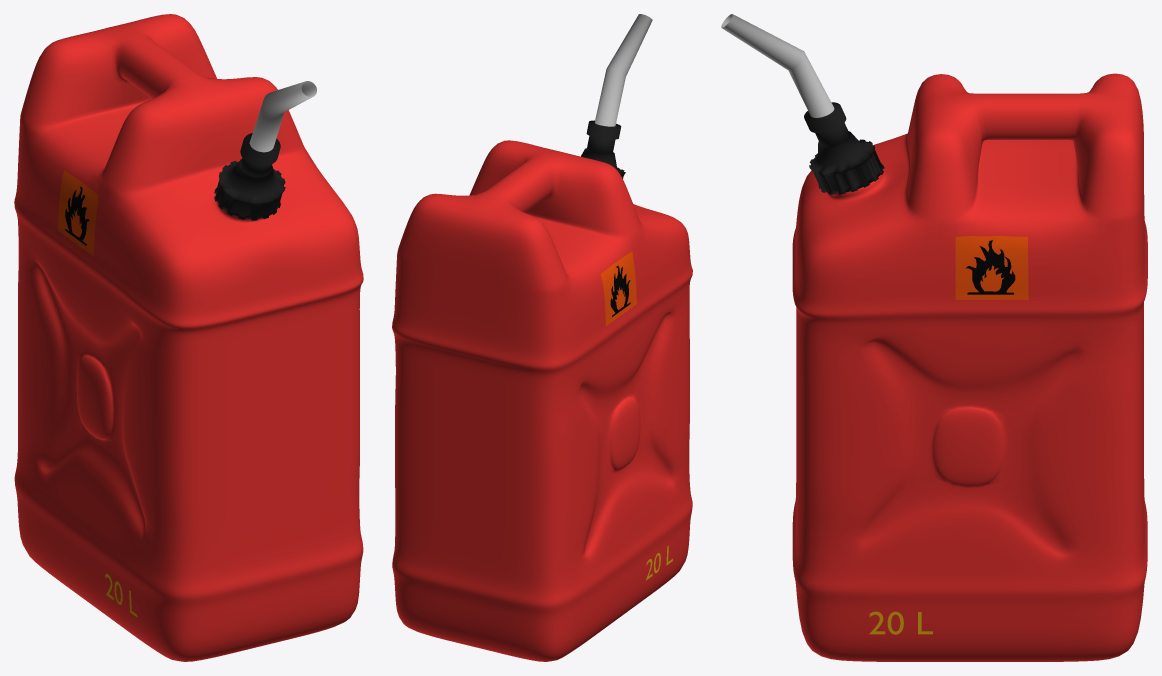
Rendered from Combustivel.fbx.
3 renders of one model, left to right at view 1: azimuth 30°, elevation 25°; view 2: azimuth 150°, elevation 25°; view 3: azimuth 270°, elevation 25°, orthographic. The views are drawn at different scales.
Parts seen in each view (by area): view 1: Cubo; view 2: Cubo; view 3: Cubo.
Part boxes in pixels (<box>): Cubo: <box>14,14,363,661</box>; Cubo: <box>392,14,692,661</box>; Cubo: <box>721,14,1147,661</box>.
Size of the model in its own units: 140 by 388 by 245.
